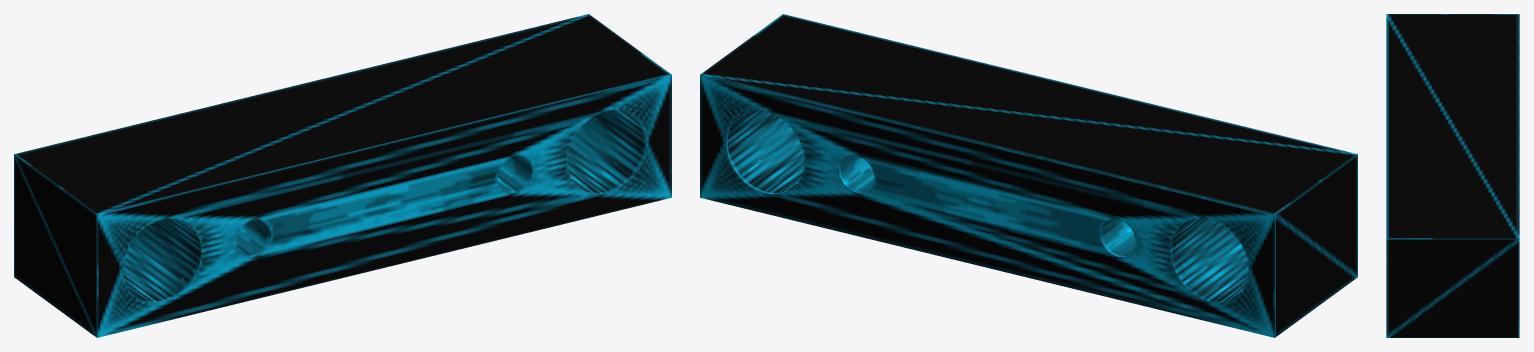
The model's file is Mold1-Spacer block-M.glb.
The picture shows the model from 3 angles, left to right: view 1: azimuth 30°, elevation 25°; view 2: azimuth 150°, elevation 25°; view 3: azimuth 270°, elevation 25°; orthographic projection. The views are drawn at different scales.
Visible parts, largest first — view 1: entretoise.001; view 2: entretoise.001; view 3: entretoise.001.
Boxes of the visible parts, x1=… form: entretoise.001: x1=14, y1=14, x2=671, y2=337; entretoise.001: x1=700, y1=14, x2=1357, y2=337; entretoise.001: x1=1386, y1=14, x2=1519, y2=337.
Bounding box in the file's own units: 5.18 × 1.06 × 1.3.
1 material, 1 textured.
